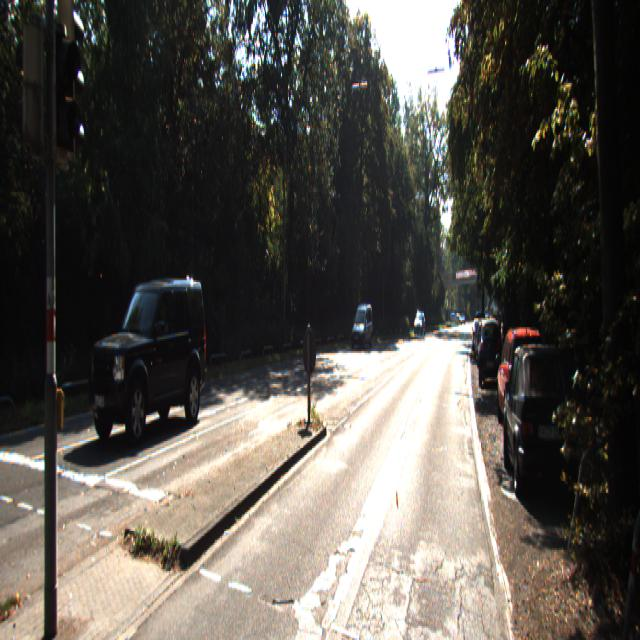Car: (86, 271, 209, 454), (499, 333, 578, 509), (496, 318, 554, 446), (479, 312, 502, 383), (350, 302, 374, 352)
